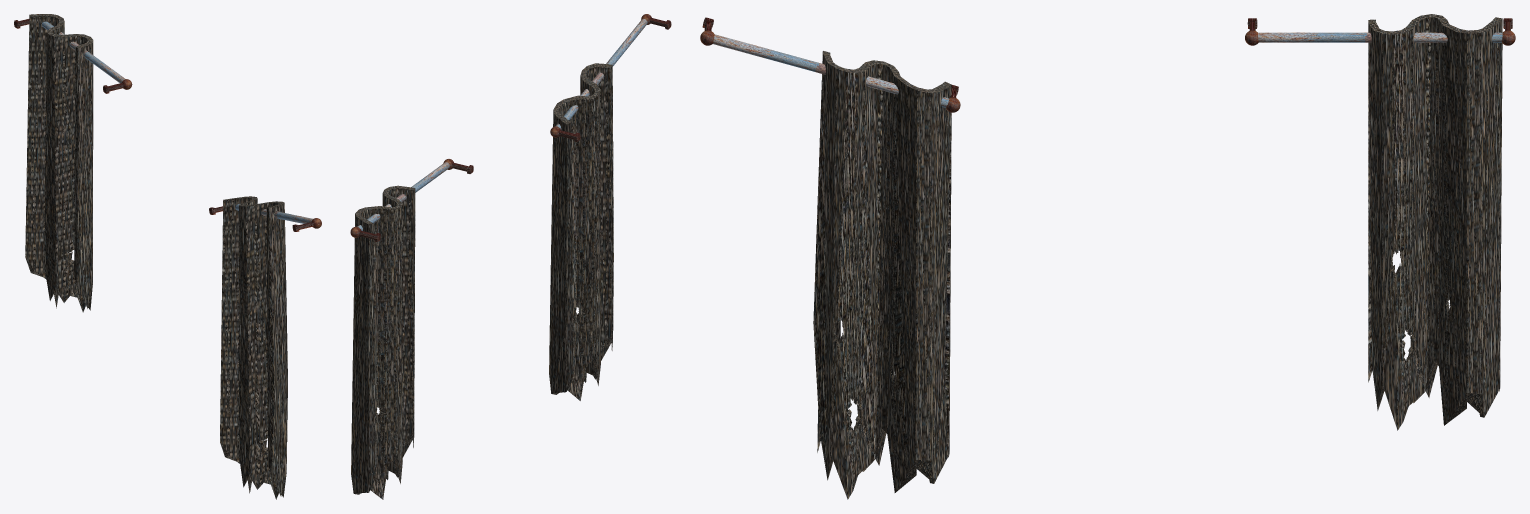
Rendered from CuratinsDiningRoom.glb.
The picture shows the model from 3 angles, left to right: view 1: azimuth 30°, elevation 25°; view 2: azimuth 150°, elevation 25°; view 3: azimuth 270°, elevation 25°; orthographic projection. The views are drawn at different scales.
Visible parts, largest first — view 1: Curtain.001, Curtain; view 2: Curtain.001, Curtain; view 3: Curtain.001, Curtain.
Boxes of the visible parts, box(x1,y1,x2,y2) form: Curtain.001: box(209, 196, 321, 499); Curtain: box(14, 14, 132, 312); Curtain.001: box(549, 14, 671, 400); Curtain: box(350, 159, 473, 499); Curtain.001: box(700, 17, 960, 499); Curtain: box(1245, 14, 1515, 430).
Size of the model in its own units: 2.31 by 18.65 by 29.39.
5 materials, 5 textured.
